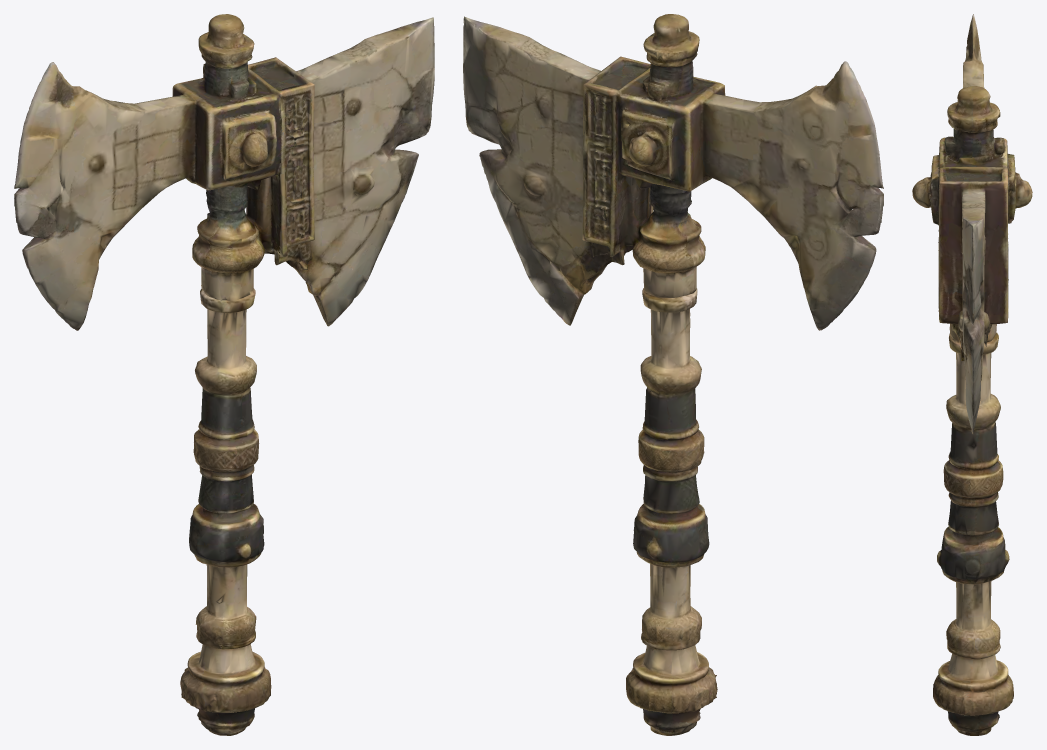
Rendered from axe.glb.
The picture shows the model from 3 angles, left to right: view 1: azimuth 30°, elevation 25°; view 2: azimuth 150°, elevation 25°; view 3: azimuth 270°, elevation 25°; orthographic projection. The views are drawn at different scales.
Visible parts, largest first — view 1: Mesh_0; view 2: Mesh_0; view 3: Mesh_0.
Boxes of the visible parts, bbox=[...] form: Mesh_0: bbox=[14, 14, 434, 735]; Mesh_0: bbox=[463, 14, 883, 735]; Mesh_0: bbox=[912, 14, 1032, 735].
Bounding box in the file's own units: 1.24 × 2 × 0.3409.
Materials: 1 (1 with a texture image).
